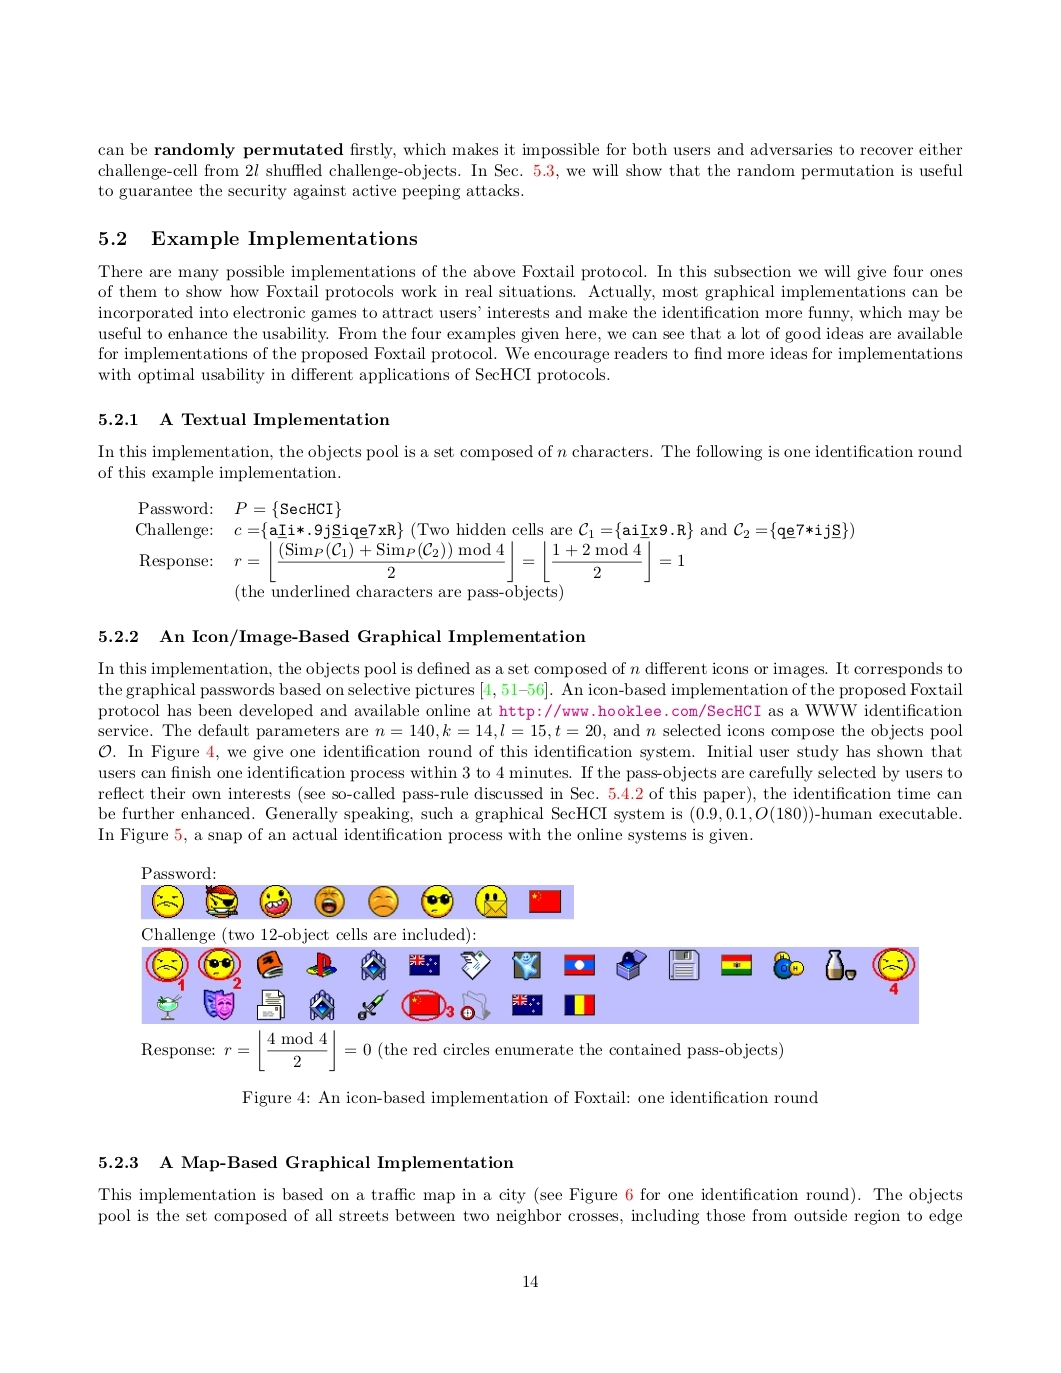Table: (136, 502, 853, 601)
figure: (142, 926, 918, 1024), (142, 884, 573, 919)
